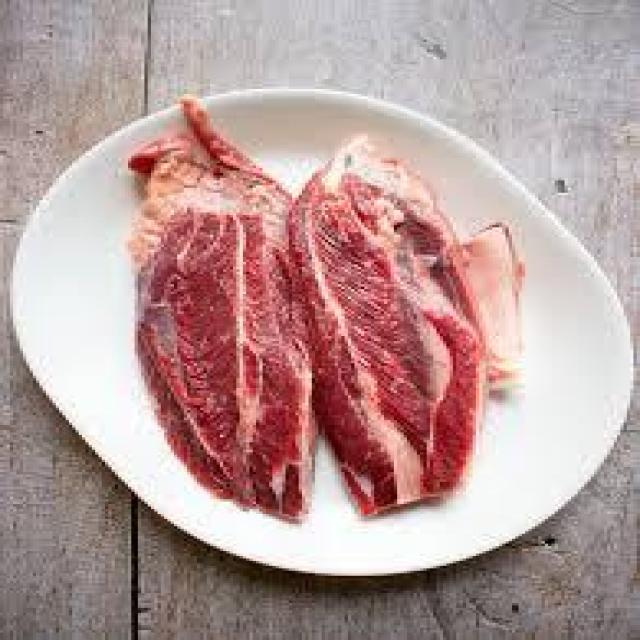Wet Waste: (97, 131, 331, 524)
